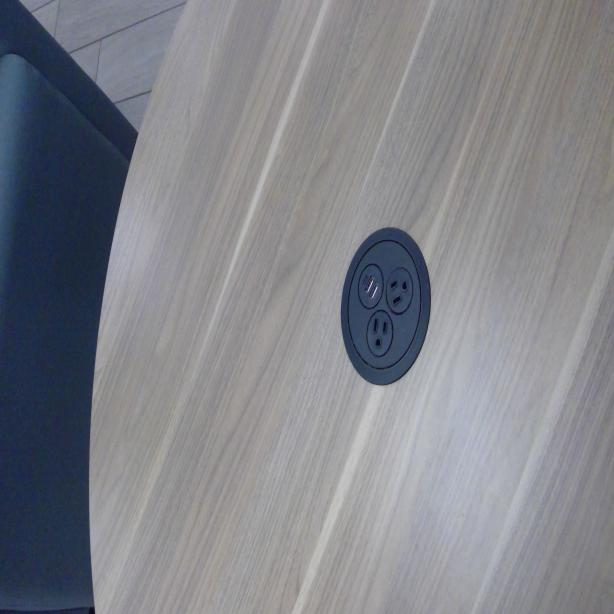typeb: (368, 312, 394, 357), (388, 264, 411, 310)
